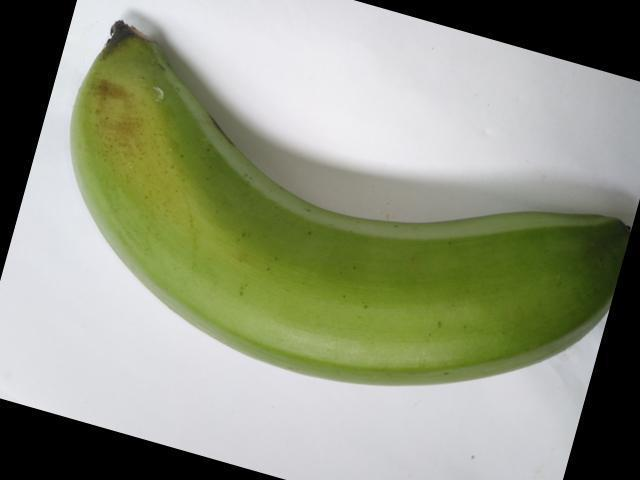freshunripe: (58, 10, 639, 411)
